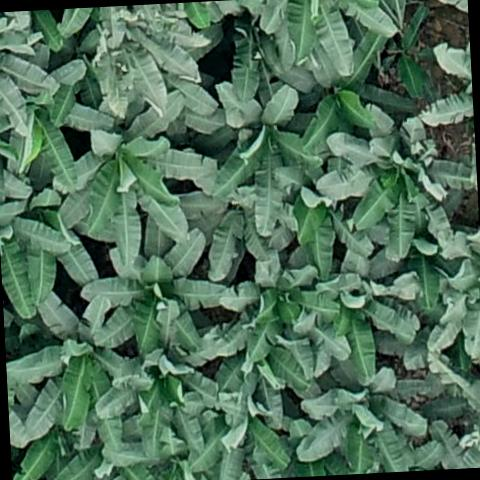Banana-plant: (53, 94, 225, 266), (316, 97, 480, 263), (95, 298, 226, 461), (75, 228, 228, 360), (205, 78, 324, 236), (8, 297, 140, 426), (222, 250, 340, 382), (293, 368, 426, 478), (297, 26, 417, 147), (0, 167, 101, 309), (309, 258, 423, 383), (172, 176, 298, 280), (93, 2, 209, 114), (0, 57, 87, 189), (184, 382, 297, 480), (420, 252, 480, 368)
